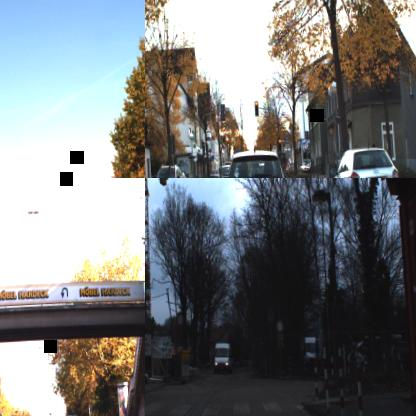CONSTRUCTION: (283, 158, 292, 172)
no traffic both ways: (274, 318, 284, 334), (174, 311, 184, 327)
speed limit 30: (283, 130, 290, 140)
